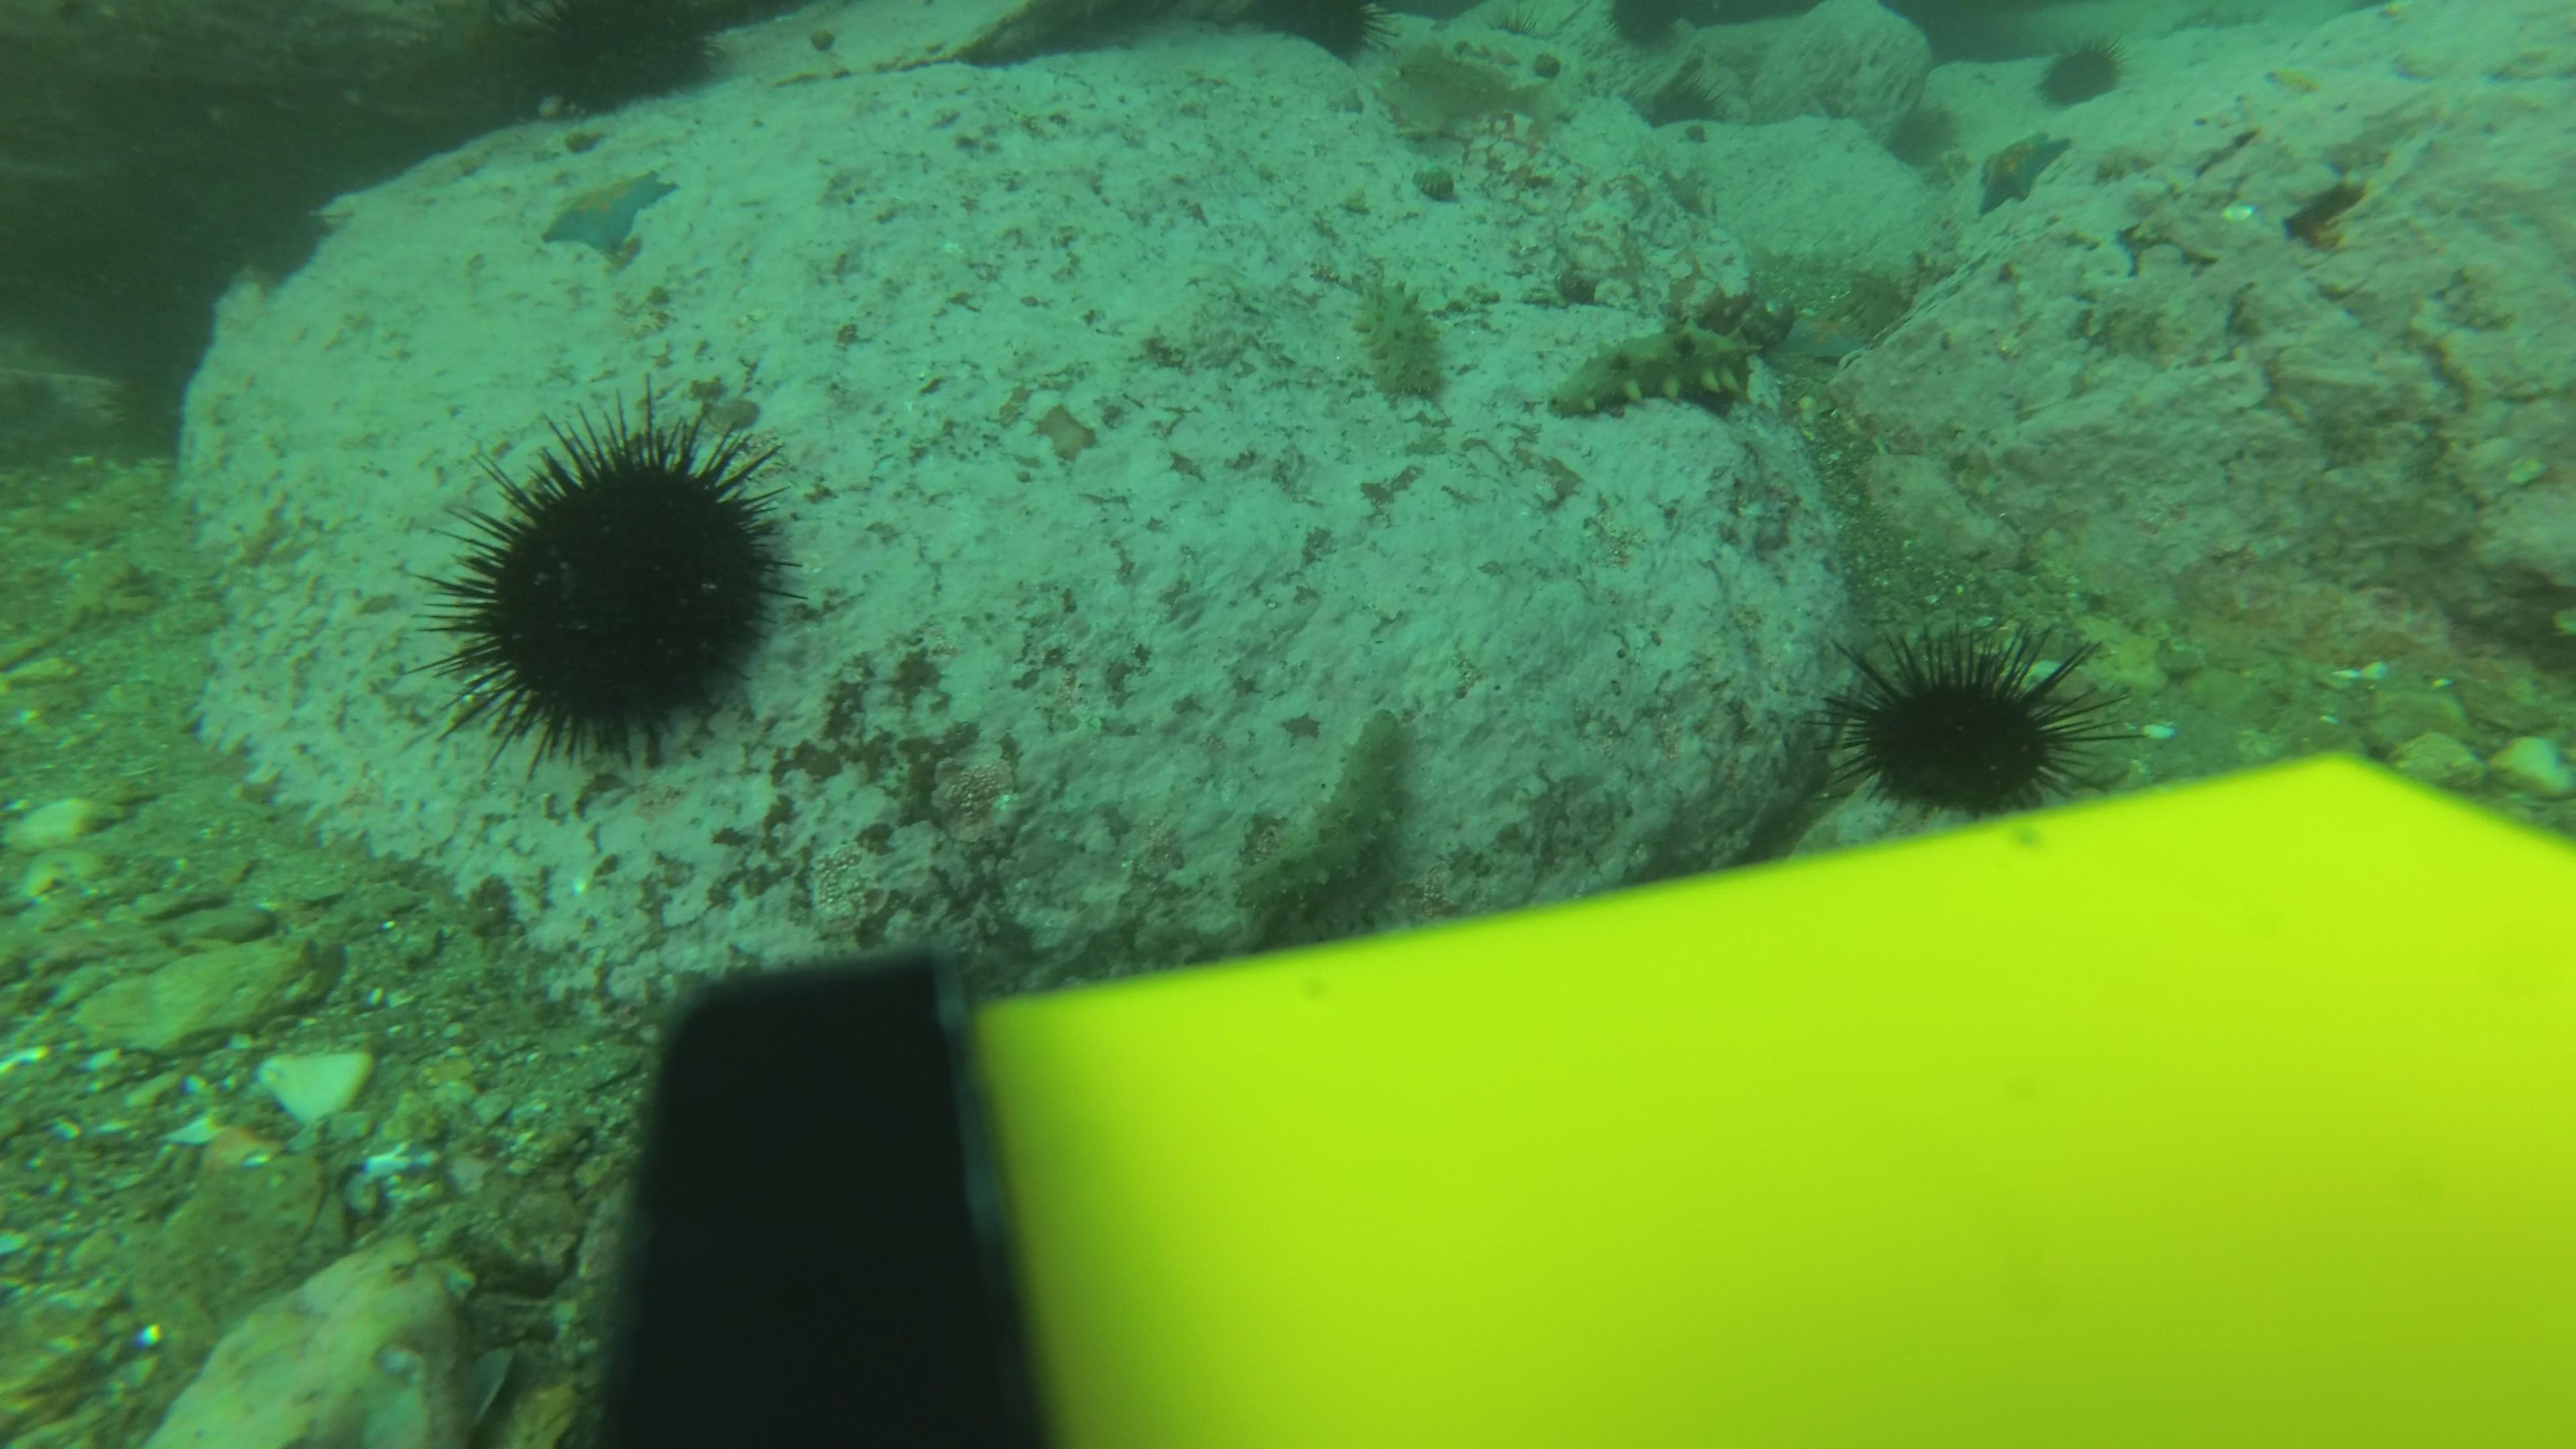urchin: (440, 396, 797, 766), (1782, 610, 2155, 828), (530, 1, 724, 111), (1248, 1, 1409, 71), (2029, 34, 2149, 106), (1611, 1, 1685, 47)
